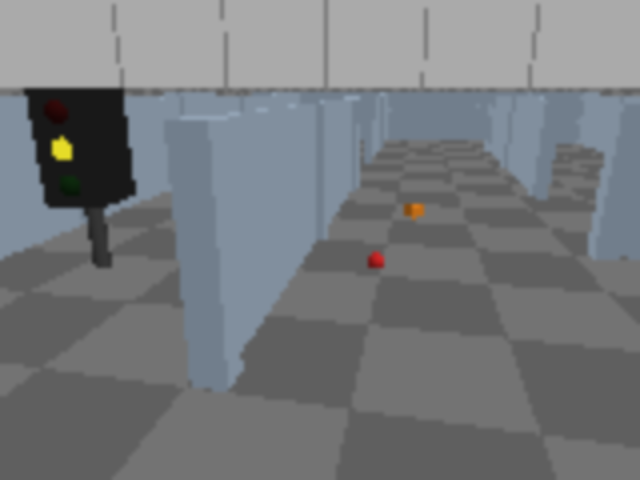puck: (365, 250, 387, 274), (404, 203, 423, 219)
traffic_light: (22, 77, 144, 279)
